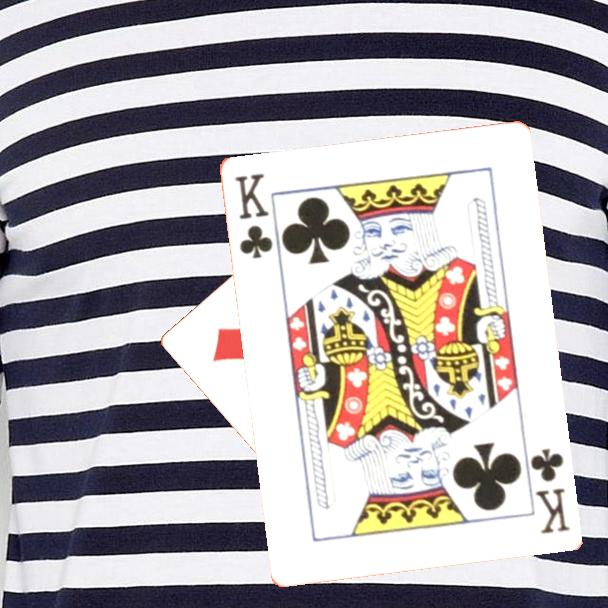c13: (526, 444, 572, 537), (230, 169, 275, 261)
